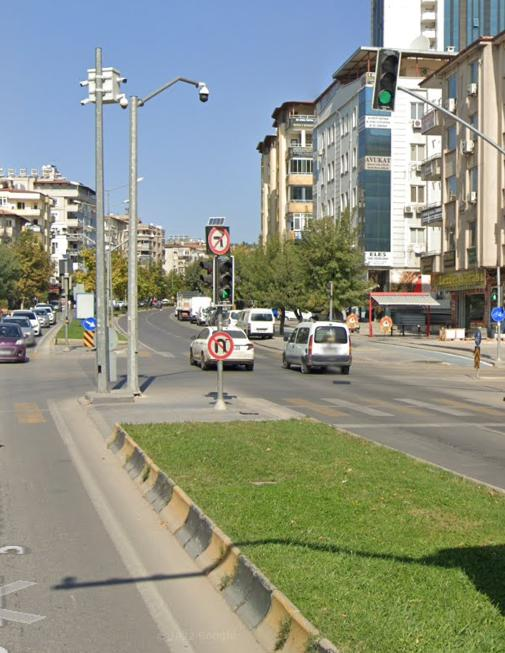greenlight: (215, 258, 231, 300)
leftturnsareforbidden: (206, 226, 232, 255)
